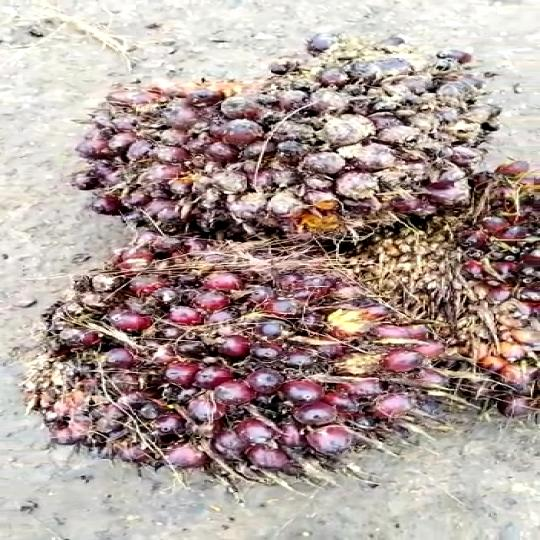kurang masak: (28, 250, 448, 472), (102, 32, 536, 228)
